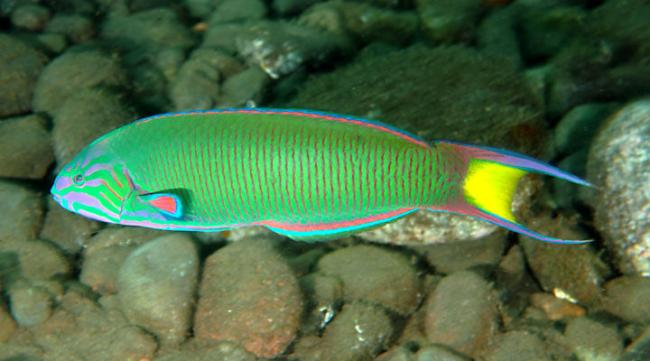fish: (51, 107, 601, 245)
